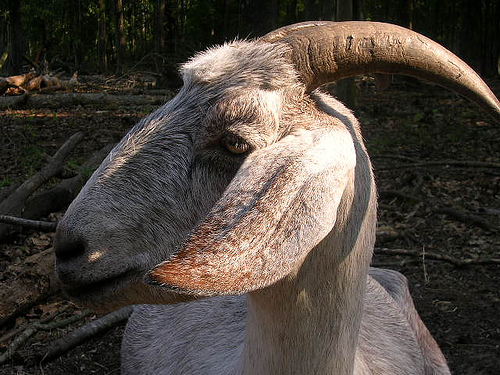goat: (52, 16, 499, 373)
